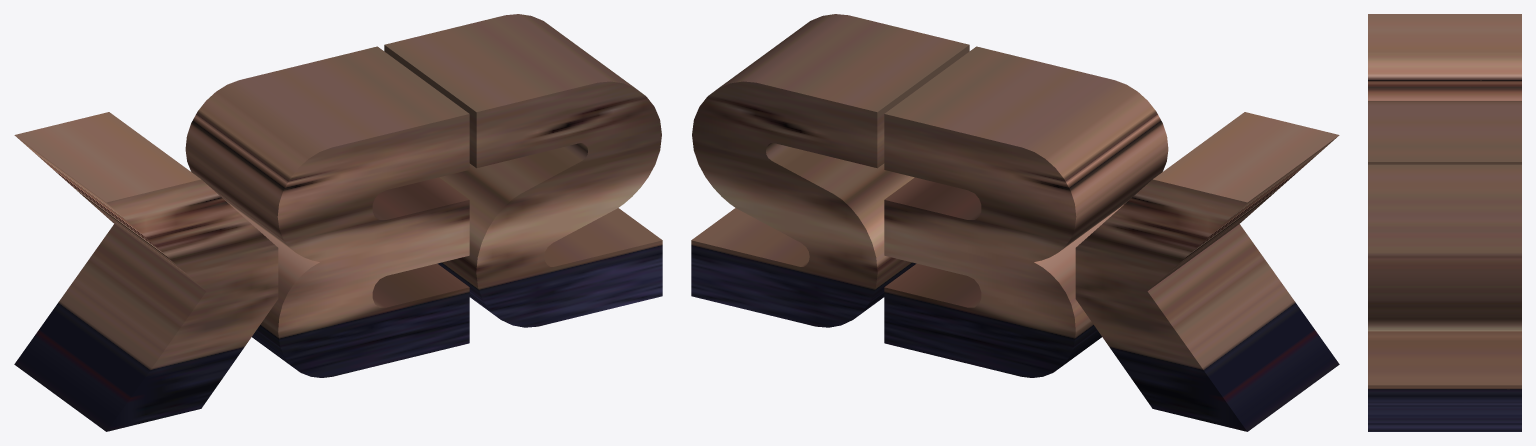
File: Settings.ico.obj
The picture shows the model from 3 angles, left to right: view 1: azimuth 30°, elevation 25°; view 2: azimuth 150°, elevation 25°; view 3: azimuth 270°, elevation 25°; orthographic projection. The views are drawn at different scales.
Bounding box in the file's own units: 5 × 1.97 × 1.44.
